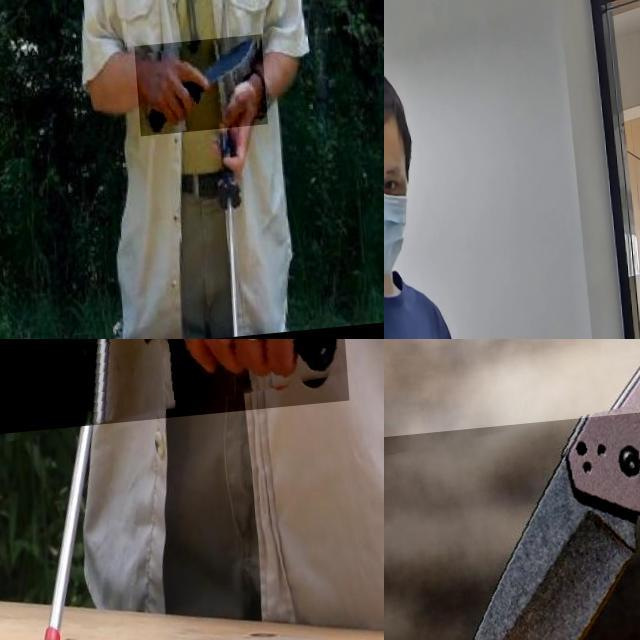-: (384, 417, 640, 640), (0, 339, 344, 455), (129, 43, 261, 143)
gun-knife-thesis - v11 Yolov5 augmented: (384, 0, 421, 174)
